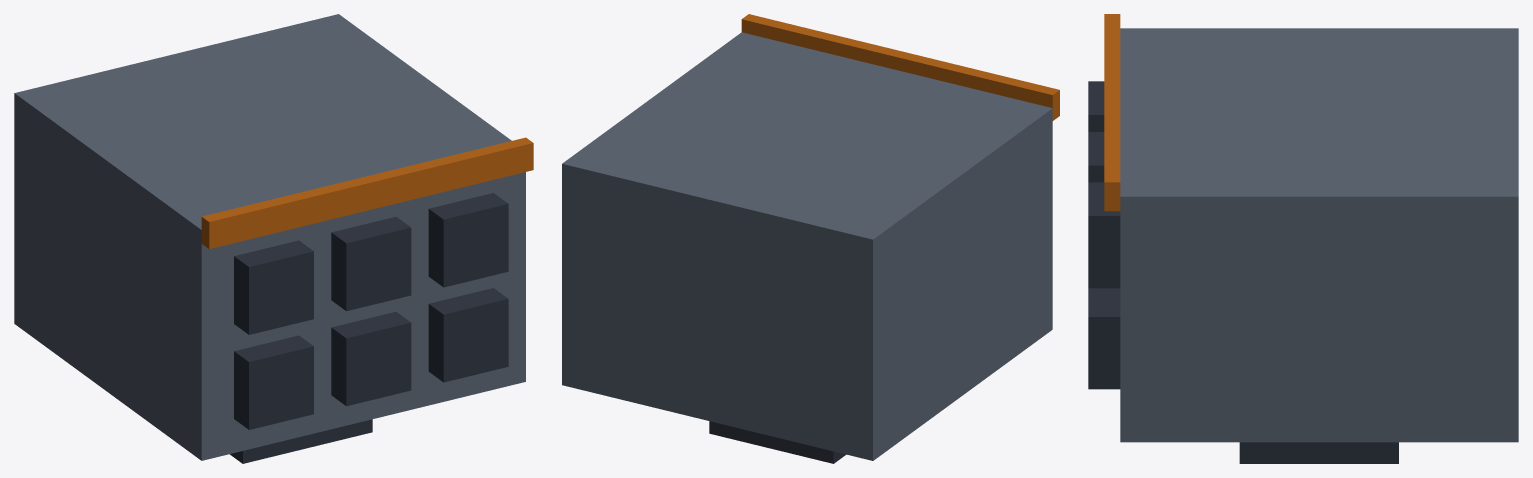
Rendered from tdf-mech-weapon-back-missile-pod.glb.
The picture shows the model from 3 angles, left to right: view 1: azimuth 30°, elevation 25°; view 2: azimuth 150°, elevation 25°; view 3: azimuth 270°, elevation 25°; orthographic projection. The views are drawn at different scales.
Parts seen in each view (by area): view 1: pod, stripe, tube_2, tube_4, tube_5, tube_1, tube_0, tube_3, mount; view 2: pod, stripe, mount; view 3: pod, mount, stripe, tube_2, tube_5, tube_3, tube_4.
Boxes of the visible parts, x1,y1,x2,y2 form: pod: [14, 14, 525, 460]; stripe: [201, 137, 533, 249]; tube_2: [428, 288, 508, 382]; tube_4: [331, 216, 411, 311]; tube_5: [428, 193, 508, 287]; tube_1: [331, 311, 411, 406]; tube_0: [234, 335, 313, 429]; tube_3: [234, 240, 313, 334]; mount: [230, 419, 372, 463]; pod: [562, 32, 1052, 460]; stripe: [741, 14, 1059, 120]; mount: [709, 421, 845, 463]; pod: [1120, 28, 1518, 442]; mount: [1239, 442, 1398, 463]; stripe: [1104, 14, 1120, 211]; tube_2: [1088, 288, 1120, 389]; tube_5: [1088, 182, 1120, 288]; tube_3: [1088, 81, 1104, 131]; tube_4: [1088, 132, 1104, 182].
Bounding box in the file's own units: 0.5 × 0.46 × 0.54.
